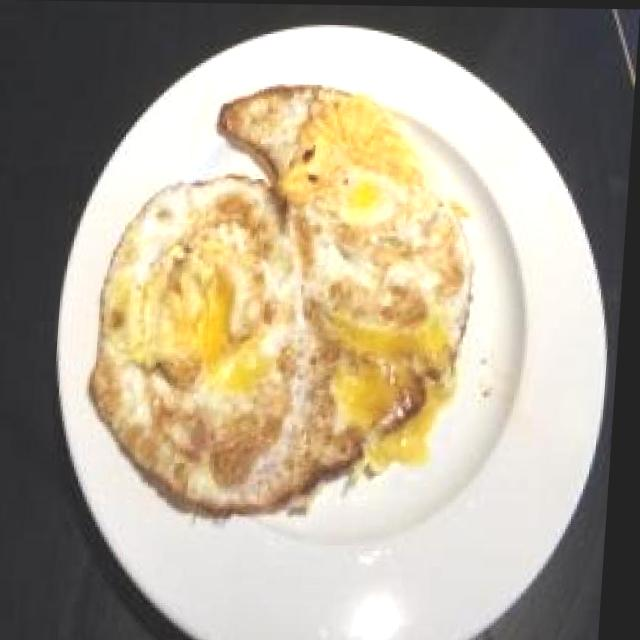fried_eggs: (86, 73, 489, 526)
